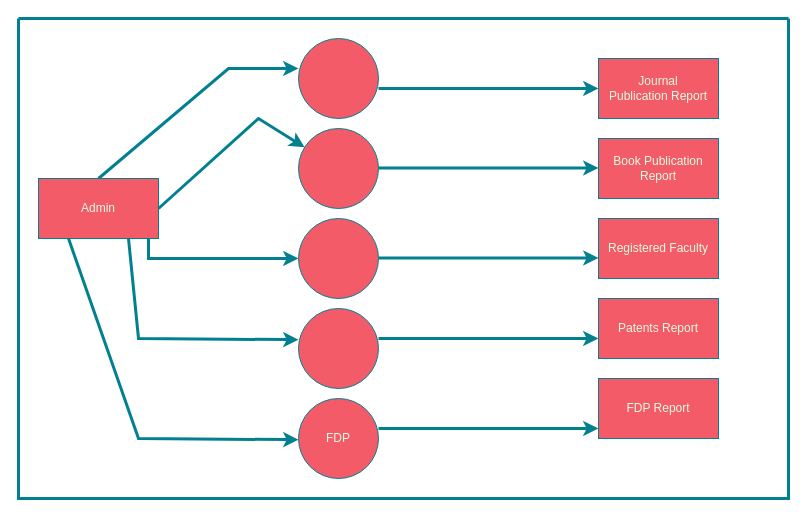
Some shapes in this 807 by 517 pixel diagram are drawn without their labels. The shapes that lost their labels are listed below. From the top down, each one's centre as x and y in pixels, then its label:
At point 338,78: "Journal Publication".
At point 338,168: "Book Publication".
At point 338,258: "Add Faculty".
At point 338,348: "Patents".
